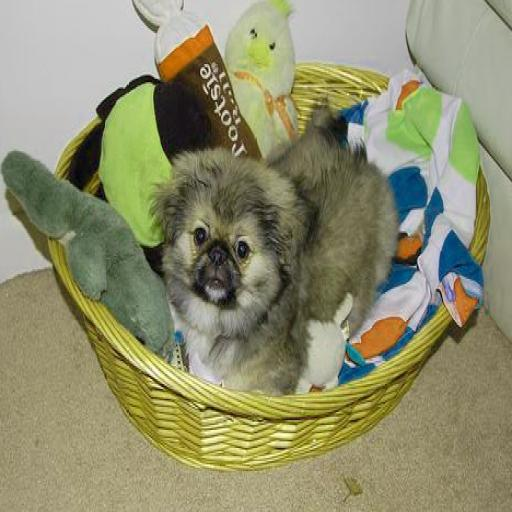dog_face: (138, 165, 301, 322)
